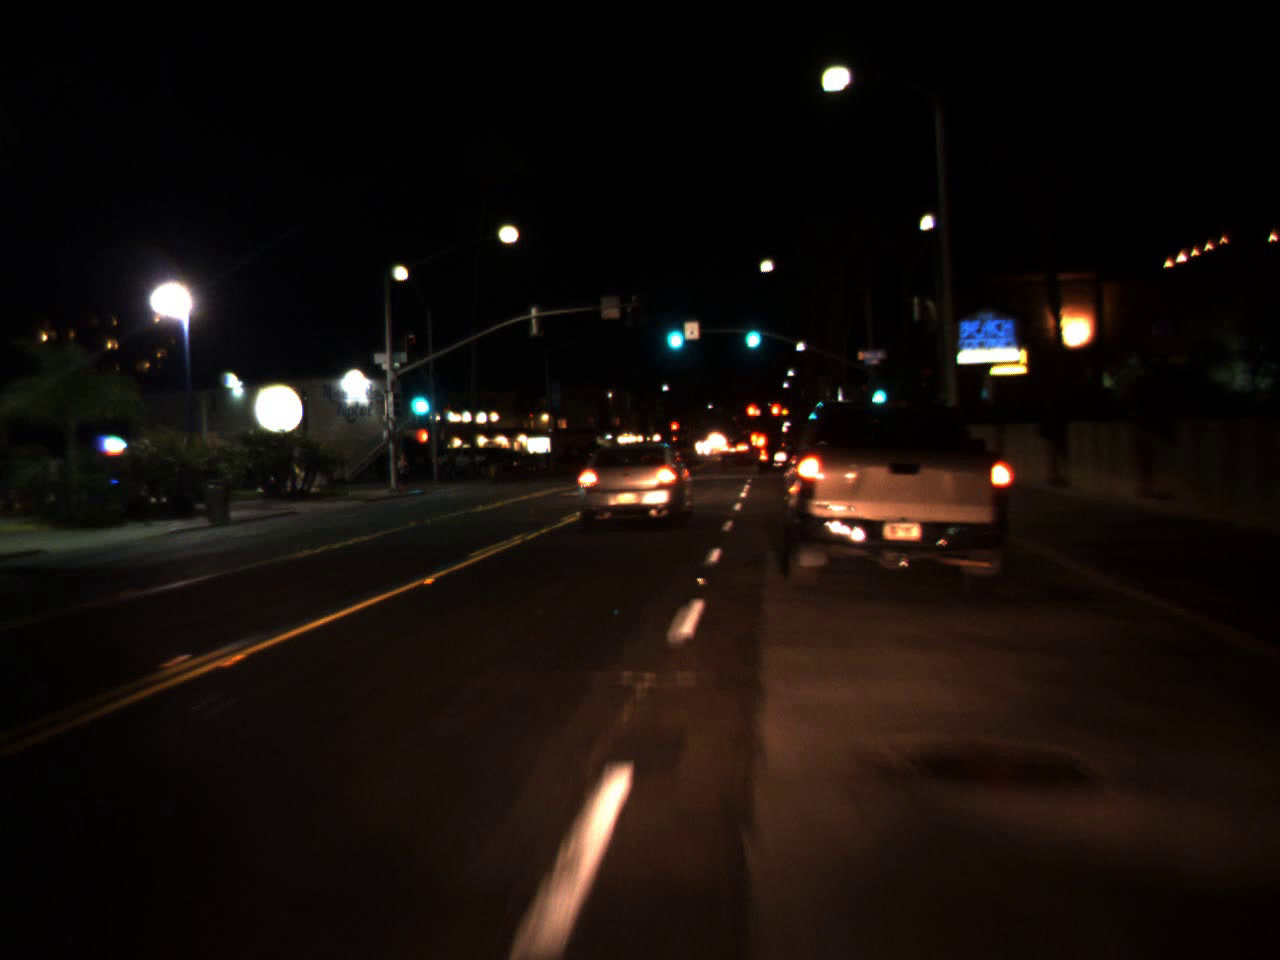go: (403, 374, 433, 422), (660, 308, 687, 356), (739, 309, 764, 354), (867, 375, 888, 408)
